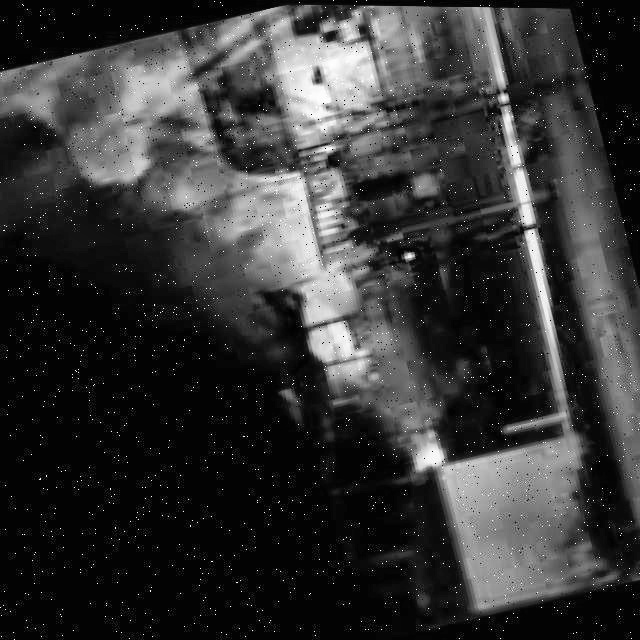Smoke: (2, 0, 387, 415)
